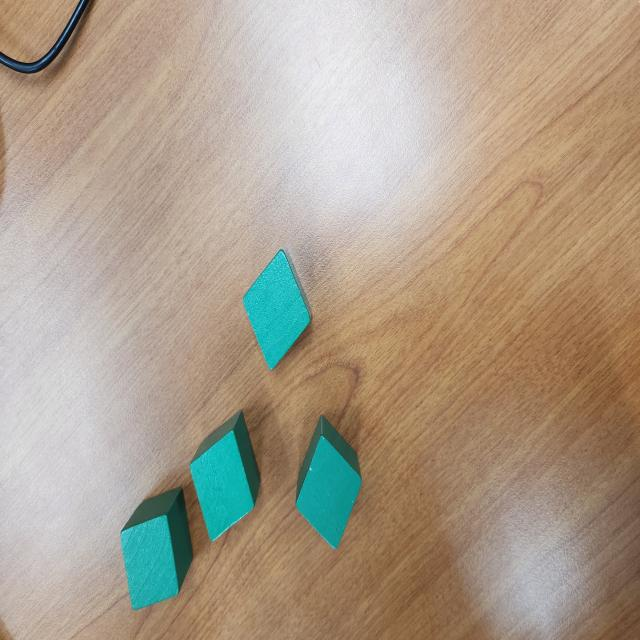green: (189, 408, 262, 542), (120, 487, 194, 611), (296, 414, 363, 550), (242, 249, 312, 370)
